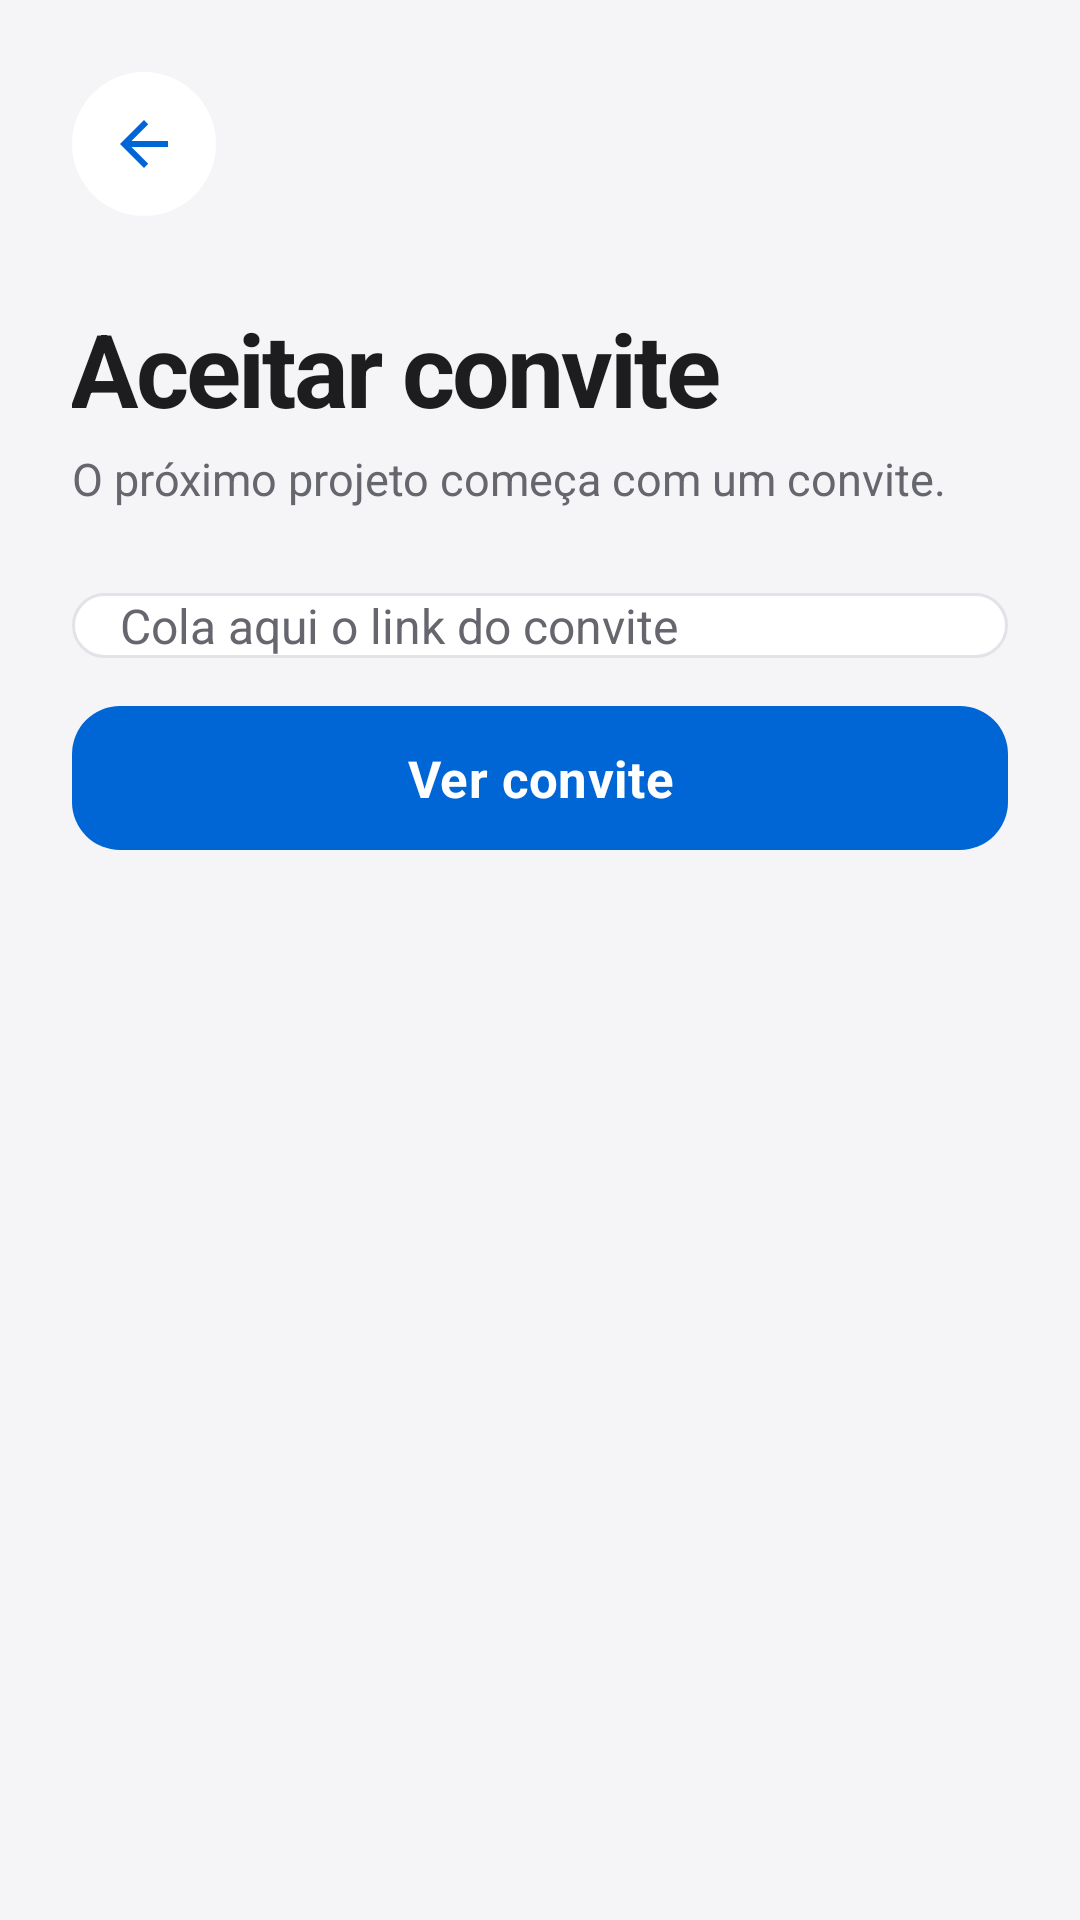

Icon click points for this 1080px x 1920px phone screenshot, format (x,y):
Voltar: (144,144)
